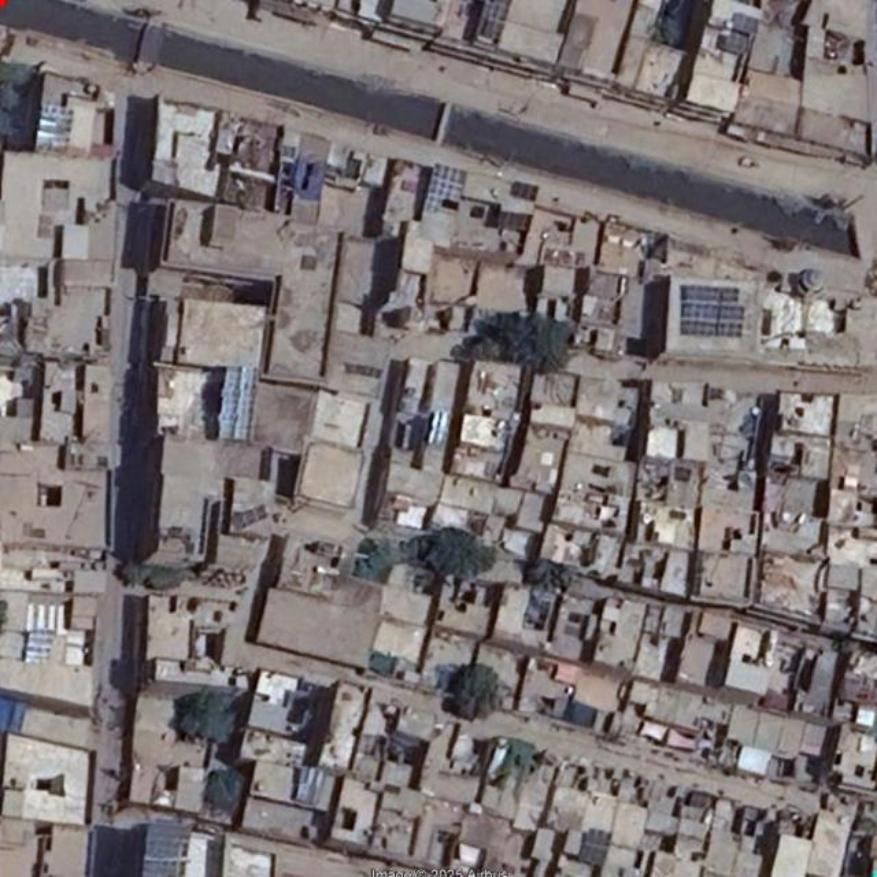Solarpanel: (680, 283, 742, 338), (143, 824, 189, 876), (427, 161, 469, 200), (579, 830, 612, 870)
